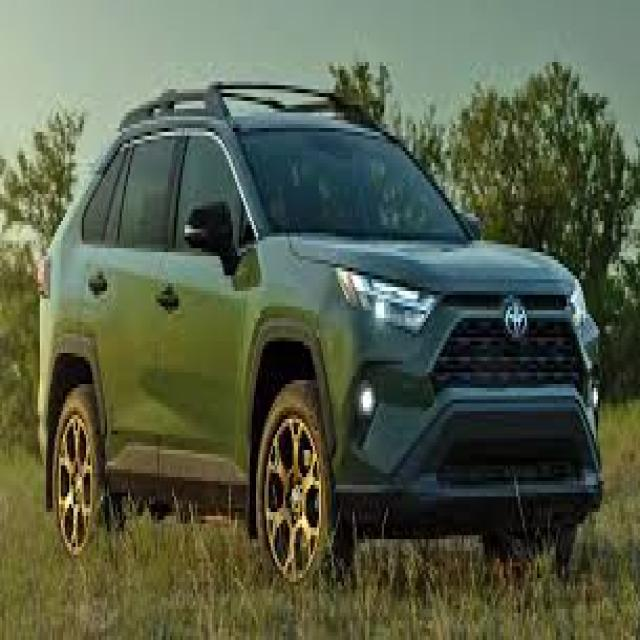light_vehicle: (34, 81, 606, 590)
